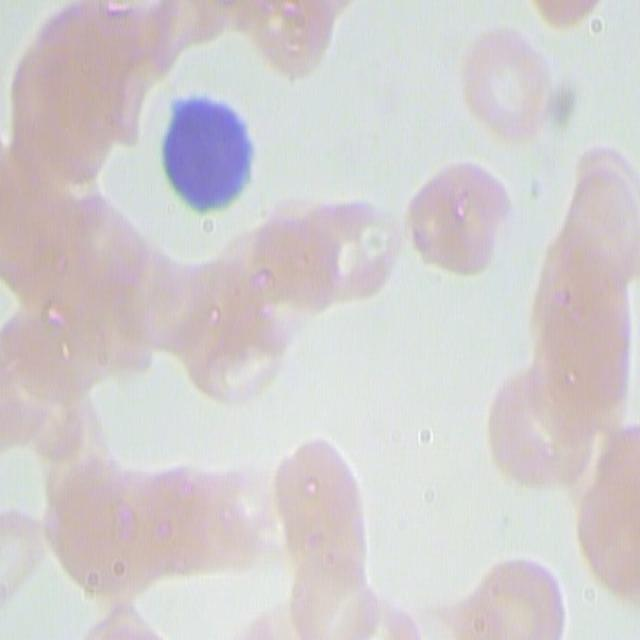RBC: (5, 0, 136, 257), (19, 190, 164, 386), (166, 246, 298, 412), (44, 429, 161, 603), (265, 431, 374, 605), (484, 364, 610, 496), (143, 455, 261, 578), (398, 155, 510, 276), (0, 302, 87, 455), (534, 248, 634, 381), (460, 23, 558, 146), (307, 181, 400, 305), (218, 0, 354, 80), (573, 432, 640, 594), (553, 144, 640, 262), (454, 555, 567, 640), (512, 0, 614, 32)
WBC: (153, 88, 264, 211)
